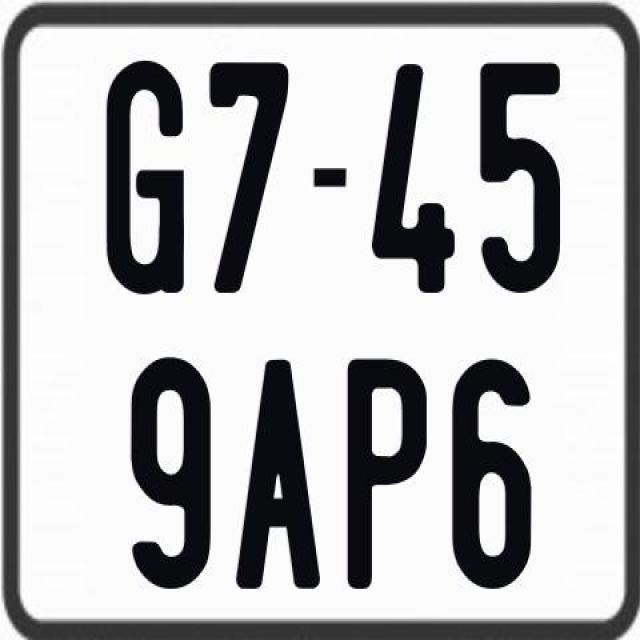4: (369, 64, 454, 298)
5: (476, 61, 563, 296)
6: (448, 355, 535, 587)
7: (206, 59, 290, 296)
9: (130, 352, 217, 587)
A: (236, 355, 321, 592)
G: (102, 61, 186, 301)
P: (346, 358, 434, 598)
